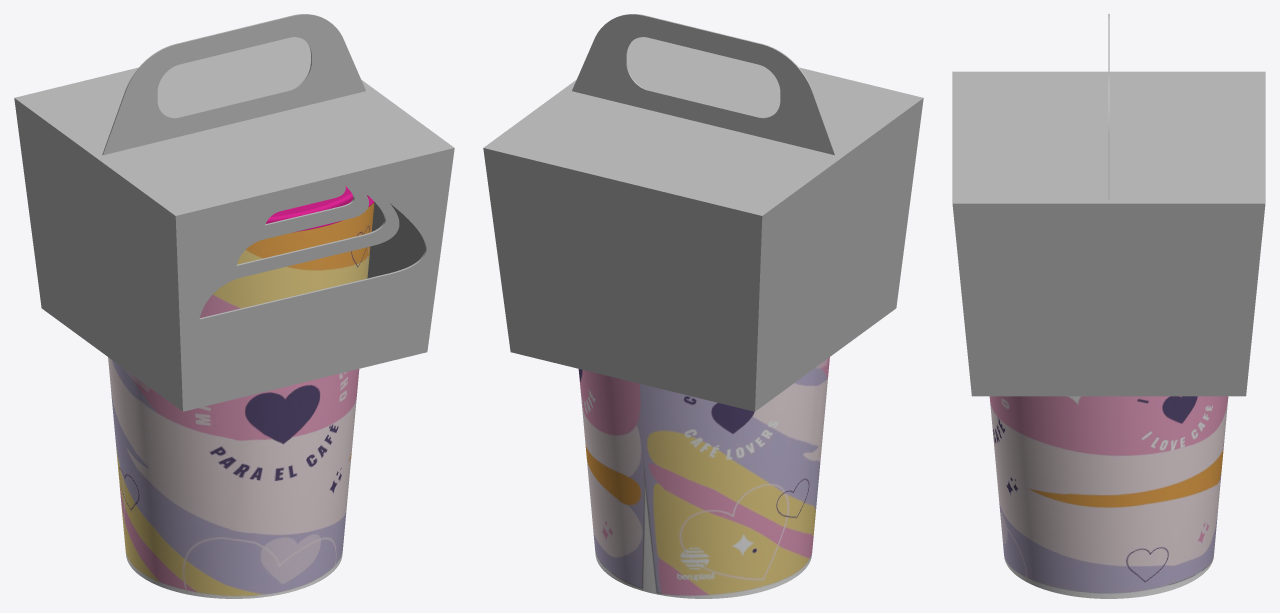
File: Sombrero_010.glb
The picture shows the model from 3 angles, left to right: view 1: azimuth 30°, elevation 25°; view 2: azimuth 150°, elevation 25°; view 3: azimuth 270°, elevation 25°; orthographic projection. The views are drawn at different scales.
Parts seen in each view (by area): view 1: object_2_n3d, object_1%2E002_n3d, object_1_n3d, tapa pico; view 2: object_2_n3d, object_1%2E002_n3d, object_1_n3d; view 3: object_2_n3d, object_1%2E002_n3d.
Boxes of the visible parts, x1,y1,x2,y2 form: object_2_n3d: [14, 37, 454, 411]; object_1%2E002_n3d: [108, 203, 374, 598]; object_1_n3d: [102, 14, 365, 155]; tapa pico: [266, 186, 374, 232]; object_2_n3d: [483, 37, 923, 411]; object_1%2E002_n3d: [578, 357, 829, 598]; object_1_n3d: [572, 14, 835, 155]; object_2_n3d: [952, 71, 1265, 396]; object_1%2E002_n3d: [989, 396, 1228, 598].
Bounding box in the file's own units: 1.27 × 2.27 × 1.27.
4 materials, 1 textured.
